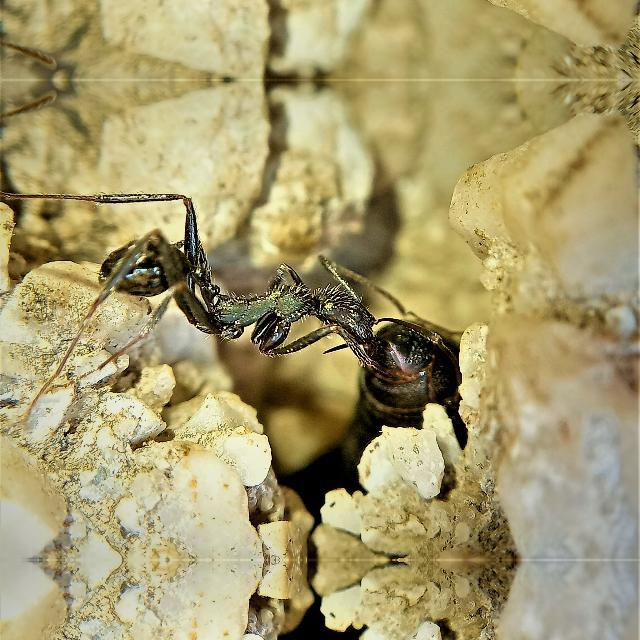Apheanogaster: (55, 194, 498, 412)
